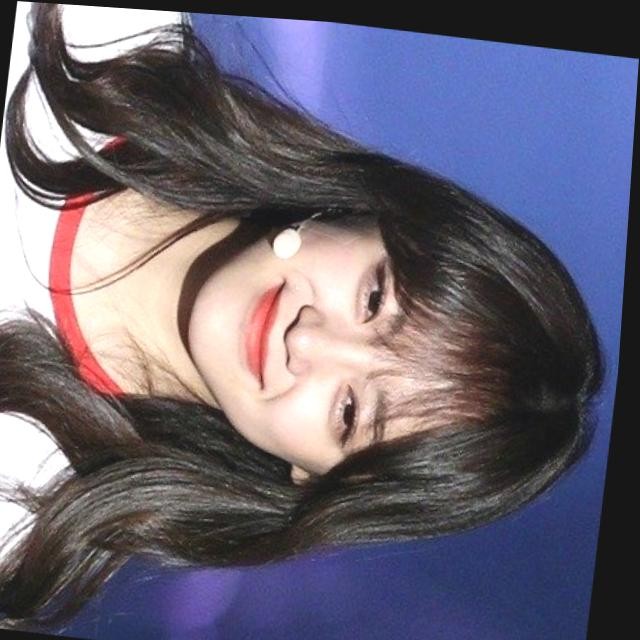face: (136, 150, 612, 537)
